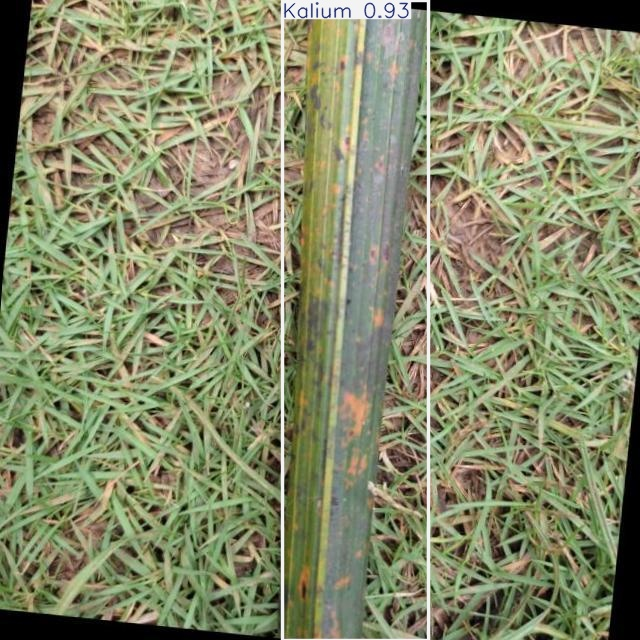Kalium: (282, 1, 429, 640)
